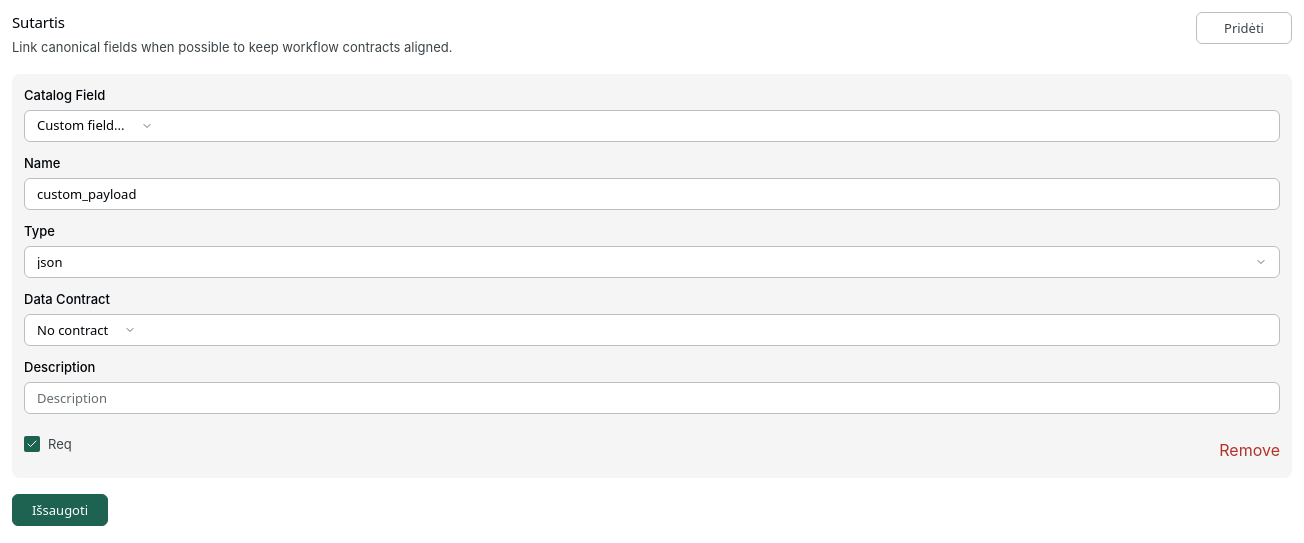
Test: localizes the Catalog Field unmatched-search state without replacing custom field names
The width and height of the screenshot is (1304, 543).
Click the button with aria-label "Catalog Field" at (81, 125), box [24,110,1280,142]
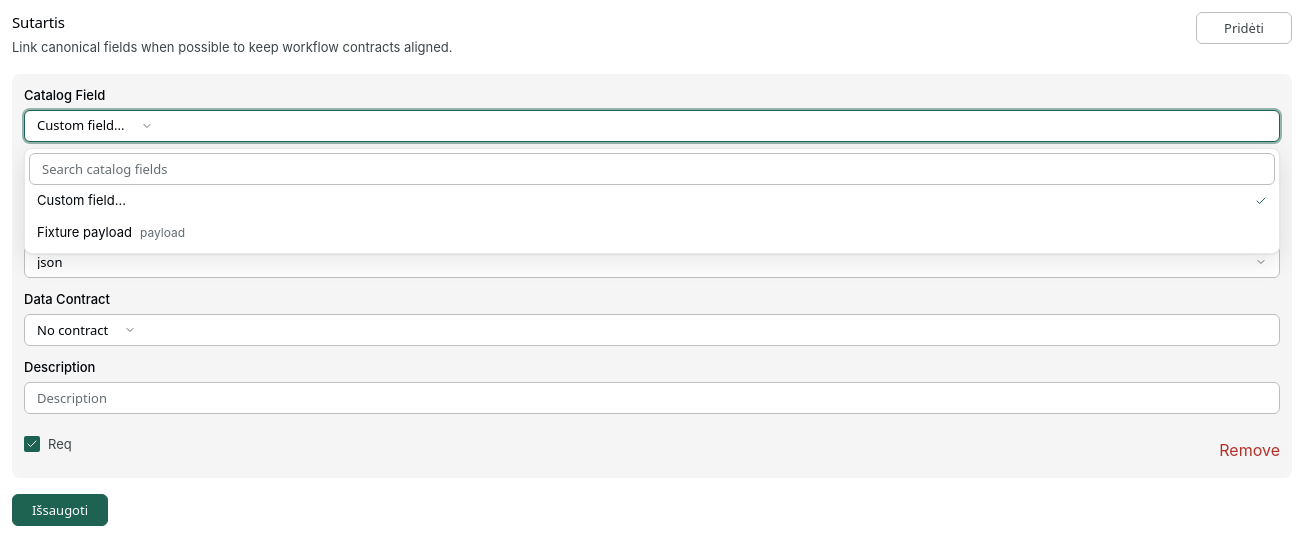
Type "no-such-fixture" into the field with placeholder "Search catalog fields" at (652, 169), box [29,153,1275,185]
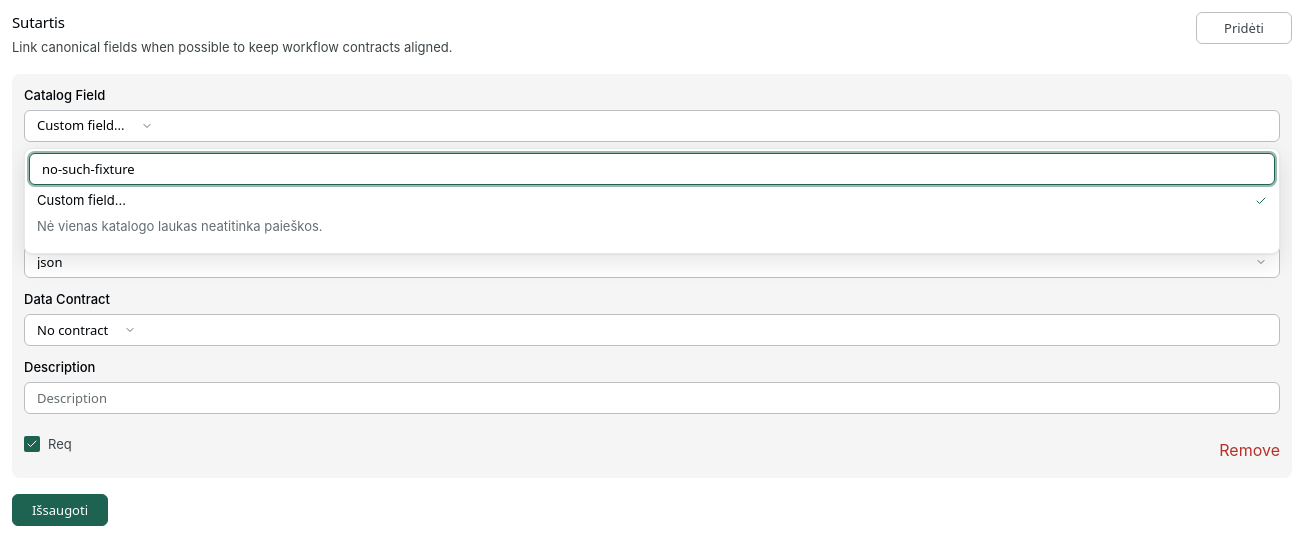
Expected: the field showing "custom_payload" is shown, [24,178,1280,210]
Now the text "Nė vienas katalogo laukas neatitinka paieškos." is shown, box [37,218,323,234]
